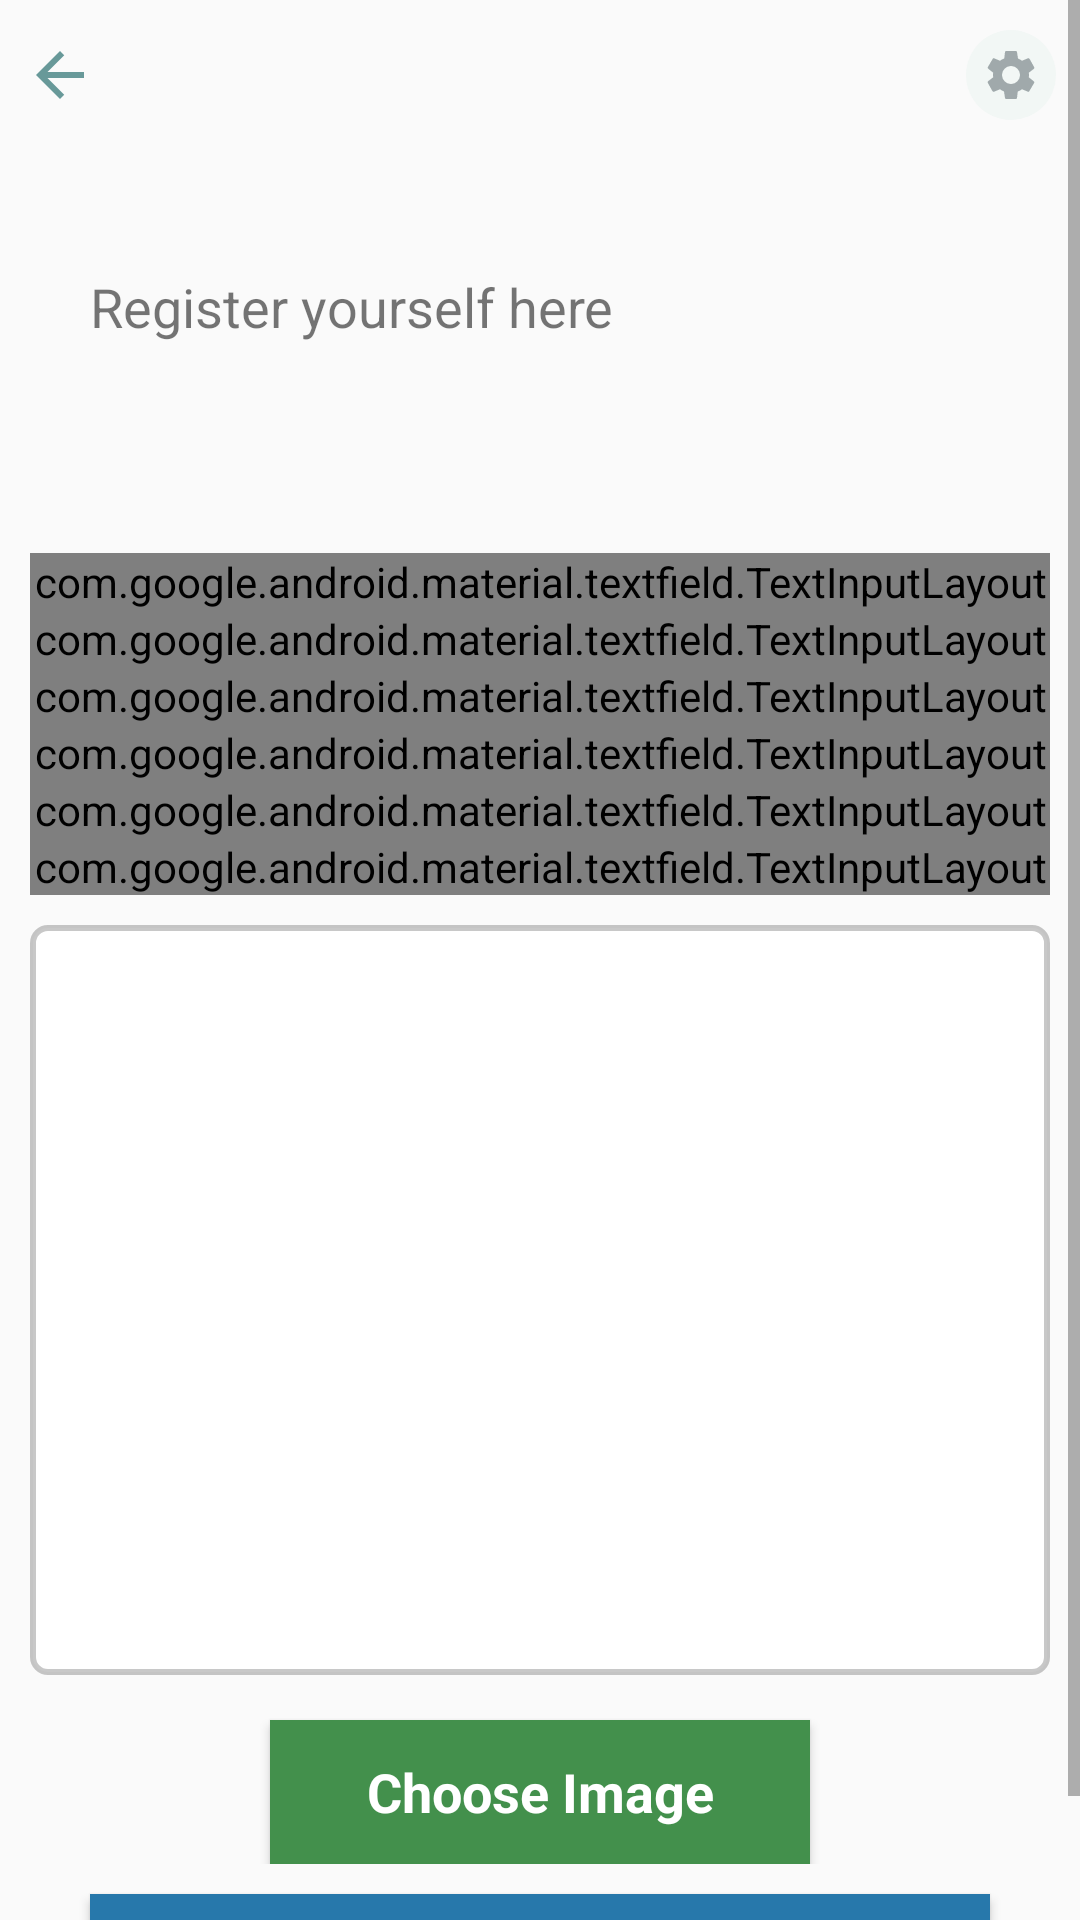

Icons on this 1080×1920 Android screen, each with the point to tap as (x=x, y=y):
settings: (x=1011, y=75)
